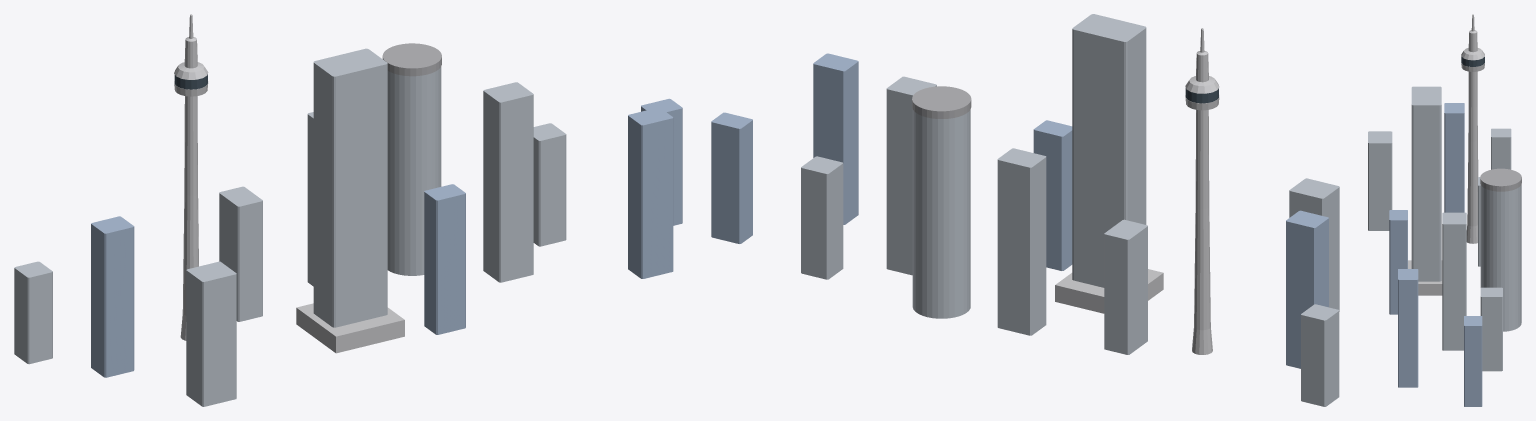
Rendered from joburg_skyline.glb.
3 renders of one model, left to right at view 1: azimuth 30°, elevation 25°; view 2: azimuth 150°, elevation 25°; view 3: azimuth 270°, elevation 25°, orthographic. The views are drawn at different scales.
Parts seen in each view (by area): view 1: city, carlton, ponte, hillbrow; view 2: city, carlton, ponte, hillbrow; view 3: city, carlton, ponte, hillbrow.
Part boxes in pixels (x1=…): city: x1=14, y1=82, x2=682, y2=406; carlton: x1=296, y1=48, x2=404, y2=353; ponte: x1=382, y1=43, x2=441, y2=275; hillbrow: x1=174, y1=14, x2=208, y2=340; city: x1=711, y1=53, x2=1339, y2=406; carlton: x1=1055, y1=14, x2=1163, y2=313; ponte: x1=912, y1=86, x2=971, y2=318; hillbrow: x1=1185, y1=28, x2=1219, y2=354; city: x1=1368, y1=103, x2=1511, y2=406; carlton: x1=1408, y1=86, x2=1442, y2=295; ponte: x1=1480, y1=168, x2=1521, y2=331; hillbrow: x1=1461, y1=14, x2=1484, y2=243.
Bounding box in the file's own units: 554 × 269 × 165.
